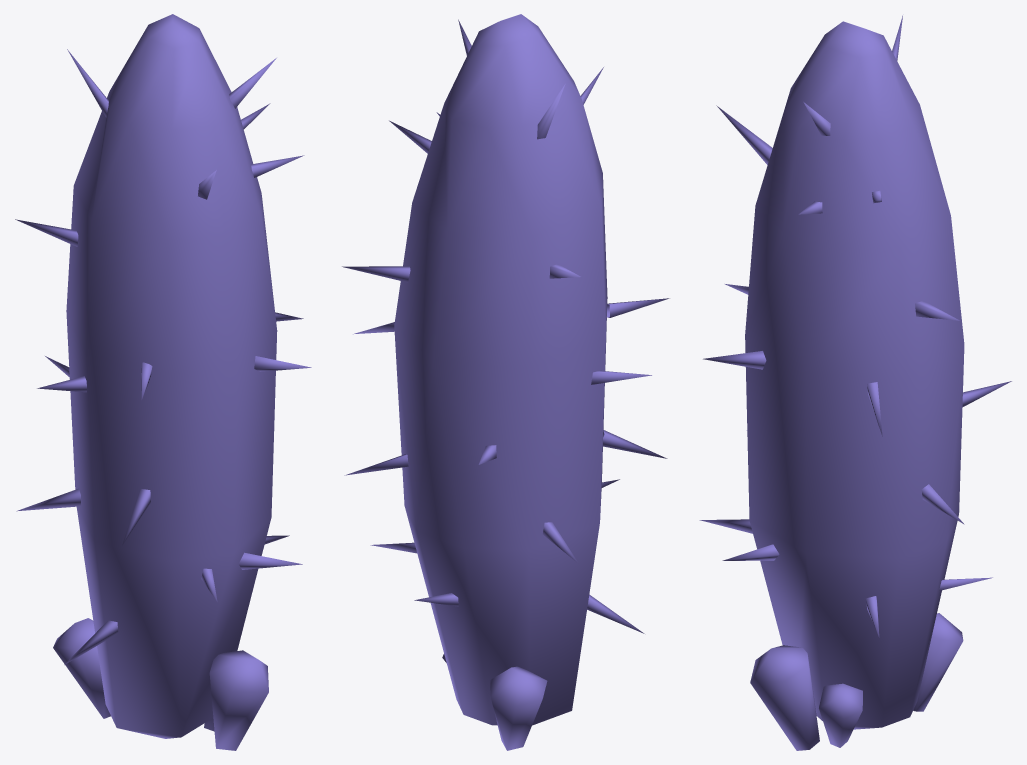
File: Cactus_Short_03.fbx
3 renders of one model, left to right at view 1: azimuth 30°, elevation 25°; view 2: azimuth 150°, elevation 25°; view 3: azimuth 270°, elevation 25°, orthographic.
Visible parts, largest first — view 1: Cactus_Short_03; view 2: Cactus_Short_03; view 3: Cactus_Short_03.
Boxes of the visible parts, bbox=[...] form: Cactus_Short_03: bbox=[15, 14, 311, 750]; Cactus_Short_03: bbox=[342, 14, 669, 750]; Cactus_Short_03: bbox=[699, 15, 1011, 750].
Size of the model in its own units: 40.53 by 97.26 by 38.92.
